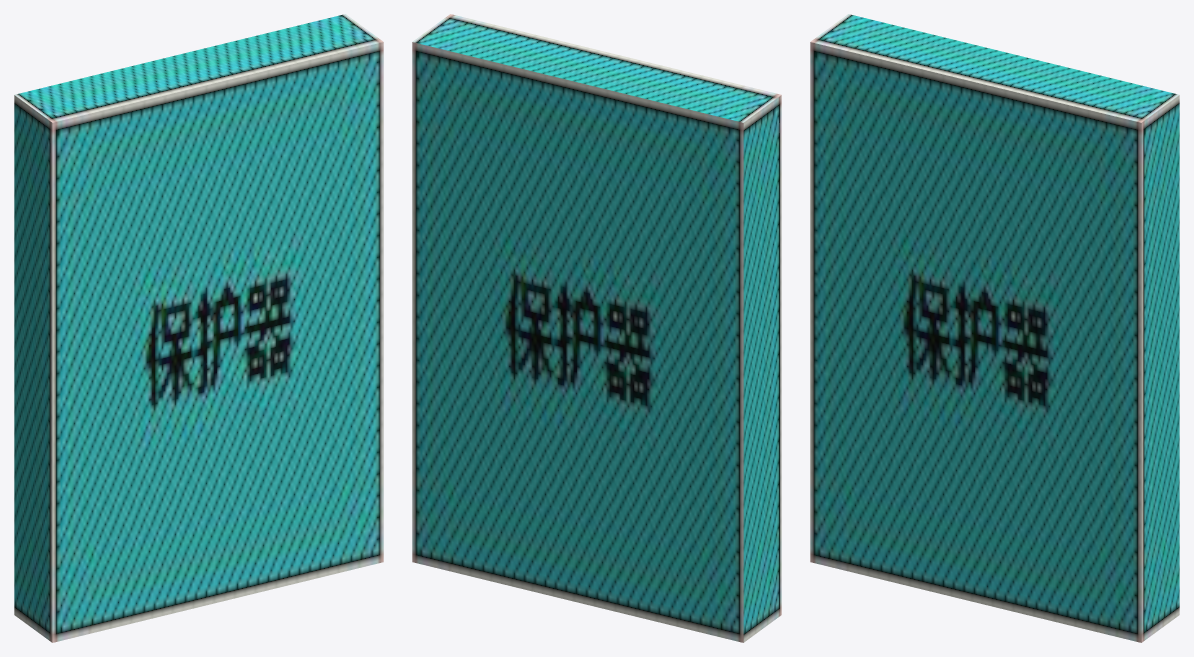
File: choufengji.gltf
3 renders of one model, left to right at view 1: azimuth 30°, elevation 25°; view 2: azimuth 150°, elevation 25°; view 3: azimuth 330°, elevation 25°, orthographic.
Visible parts, largest first — view 1: choufengji; view 2: choufengji; view 3: choufengji.
Part boxes in pixels (x1,y1,x2,y2): choufengji: (14, 14, 383, 642); choufengji: (412, 14, 781, 642); choufengji: (810, 14, 1179, 642).
Size of the model in its own units: 1 by 1.5 by 0.2.
1 material, 1 textured.
